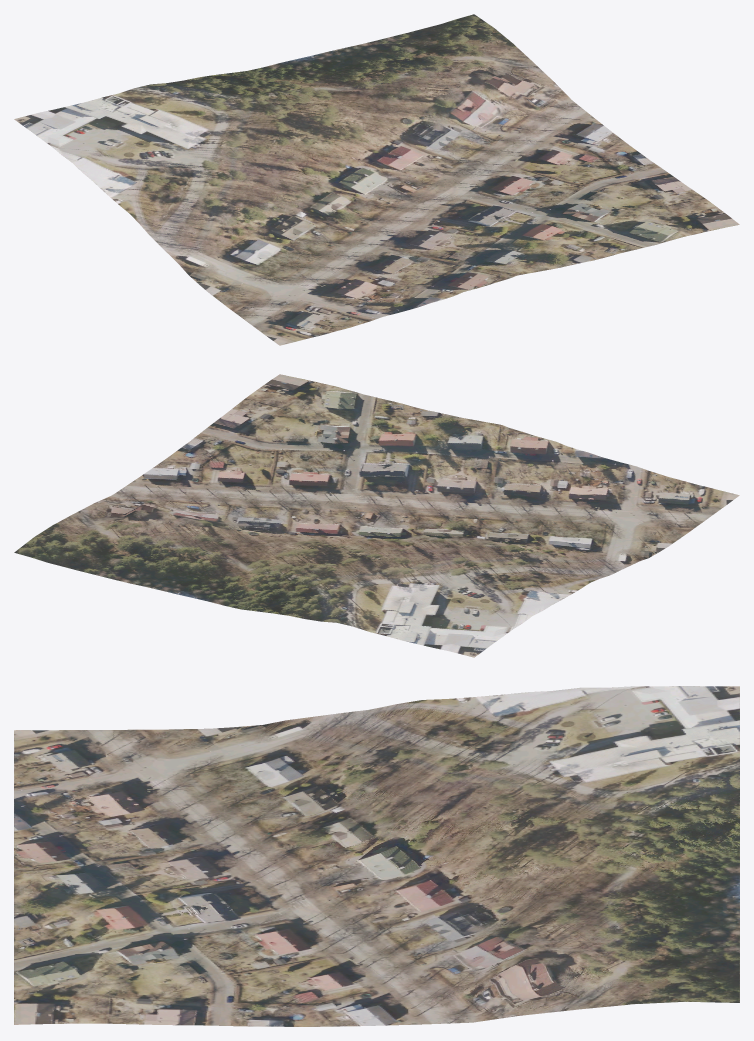
Rendered from CM_Terrain_24488820_6822046.fbx.
The picture shows the model from 3 angles, top to bottom: view 1: azimuth 30°, elevation 25°; view 2: azimuth 150°, elevation 25°; view 3: azimuth 270°, elevation 25°; orthographic projection. The views are drawn at different scales.
Visible parts, largest first — view 1: CM_Terrain_24488820_6822046_LOD0; view 2: CM_Terrain_24488820_6822046_LOD0; view 3: CM_Terrain_24488820_6822046_LOD0.
Part boxes in pixels (x1=…): CM_Terrain_24488820_6822046_LOD0: x1=14, y1=14, x2=739, y2=345; CM_Terrain_24488820_6822046_LOD0: x1=14, y1=374, x2=739, y2=657; CM_Terrain_24488820_6822046_LOD0: x1=14, y1=686, x2=739, y2=1026.
Size of what is drawn, in the model's own units: 205 by 14.82 by 205.
